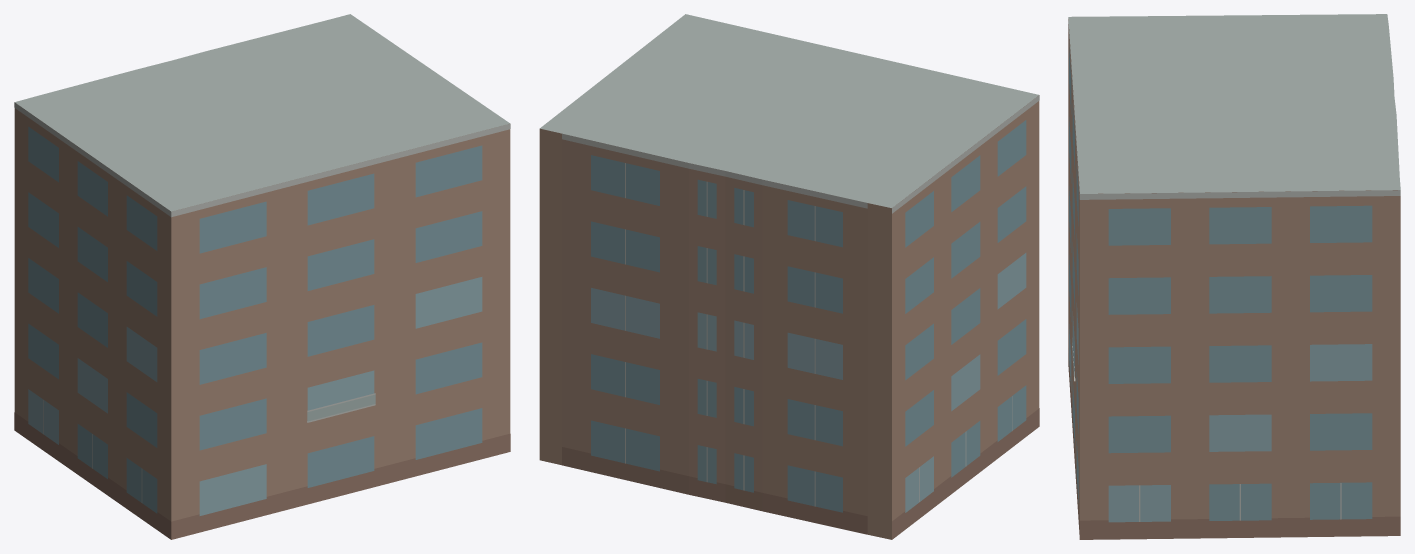
File: residential-8fc5eebb-6331-4829-8f3e-255949060011.glb
3 views of the same model, side by side, from view 1: azimuth 30°, elevation 25°; view 2: azimuth 150°, elevation 25°; view 3: azimuth 270°, elevation 25° (orthographic). The views are drawn at different scales.
Visible parts, largest first — view 1: residential-8fc5eebb-6331-4829-8f3e-255949060011.tmp; view 2: residential-8fc5eebb-6331-4829-8f3e-255949060011.tmp; view 3: residential-8fc5eebb-6331-4829-8f3e-255949060011.tmp.
Part boxes in pixels (left/top/right/bottom): residential-8fc5eebb-6331-4829-8f3e-255949060011.tmp: left=14, top=14, right=510, bottom=539; residential-8fc5eebb-6331-4829-8f3e-255949060011.tmp: left=539, top=14, right=1039, bottom=539; residential-8fc5eebb-6331-4829-8f3e-255949060011.tmp: left=1068, top=14, right=1400, bottom=539.
Size of the model in its own units: 15.91 by 14.25 by 12.42.
